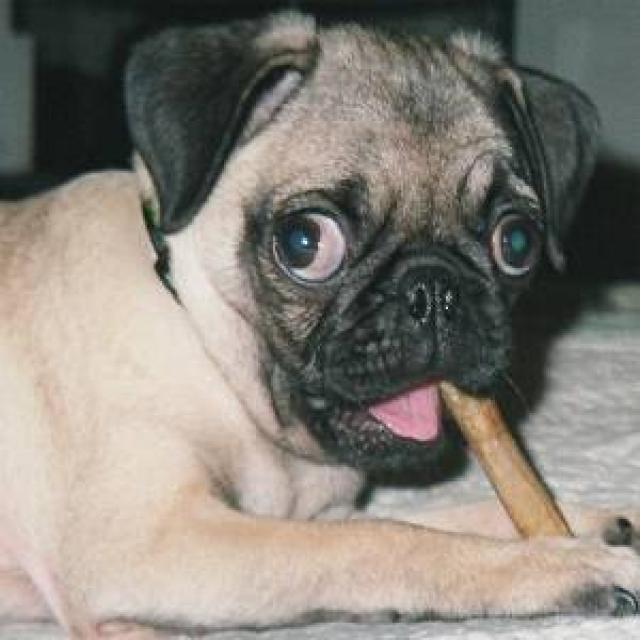dog-pug: (2, 9, 636, 636)
